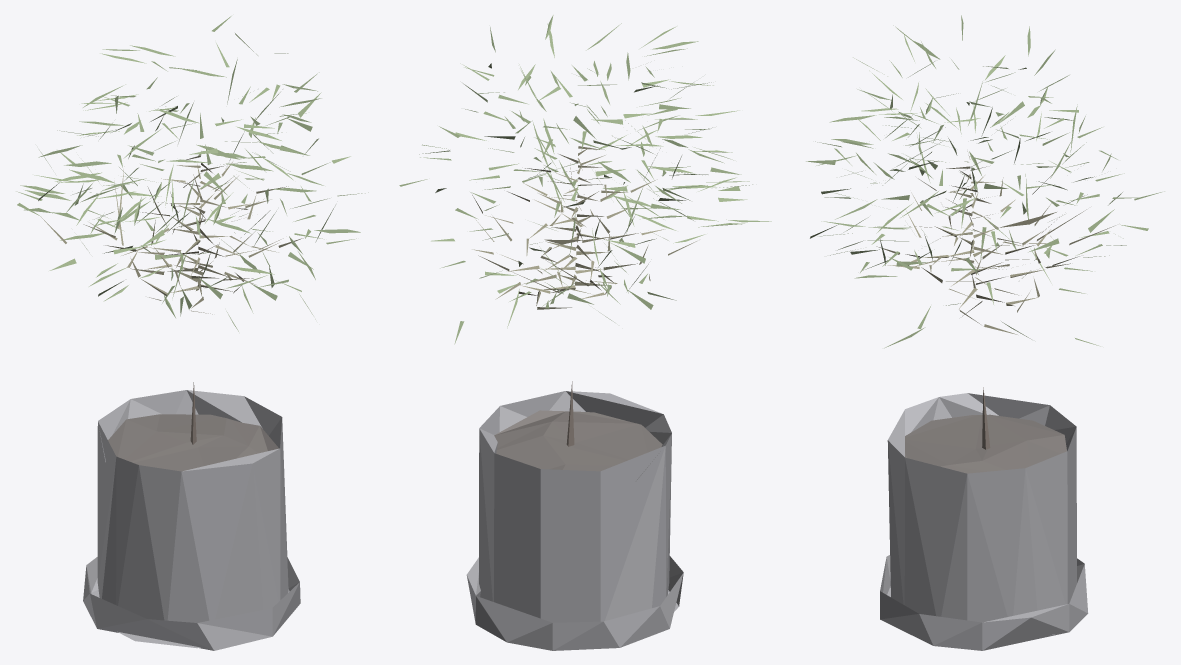
The model's file is bush_decorative_plant.glb.
The picture shows the model from 3 angles, left to right: view 1: azimuth 30°, elevation 25°; view 2: azimuth 150°, elevation 25°; view 3: azimuth 270°, elevation 25°; orthographic projection.
Visible parts, largest first — view 1: Pot_Untitled.003, leaves, Ground_Untitled.004, tree_Mesh; view 2: Pot_Untitled.003, leaves, Ground_Untitled.004, tree_Mesh; view 3: Pot_Untitled.003, leaves, Ground_Untitled.004, tree_Mesh.
Boxes of the visible parts, box(x1,y1,x2,y2) form: Pot_Untitled.003: box(83, 390, 300, 650); leaves: box(16, 16, 368, 331); Ground_Untitled.004: box(108, 414, 278, 471); tree_Mesh: box(41, 155, 303, 444); Pot_Untitled.003: box(466, 391, 683, 650); leaves: box(399, 15, 771, 344); Ground_Untitled.004: box(494, 410, 662, 471); tree_Mesh: box(472, 146, 696, 446); Pot_Untitled.003: box(880, 393, 1088, 650); leaves: box(806, 15, 1164, 348); Ground_Untitled.004: box(905, 414, 1066, 473); tree_Mesh: box(876, 151, 1115, 449).
Bounding box in the file's own units: 0.5442 × 0.9509 × 0.5694.
